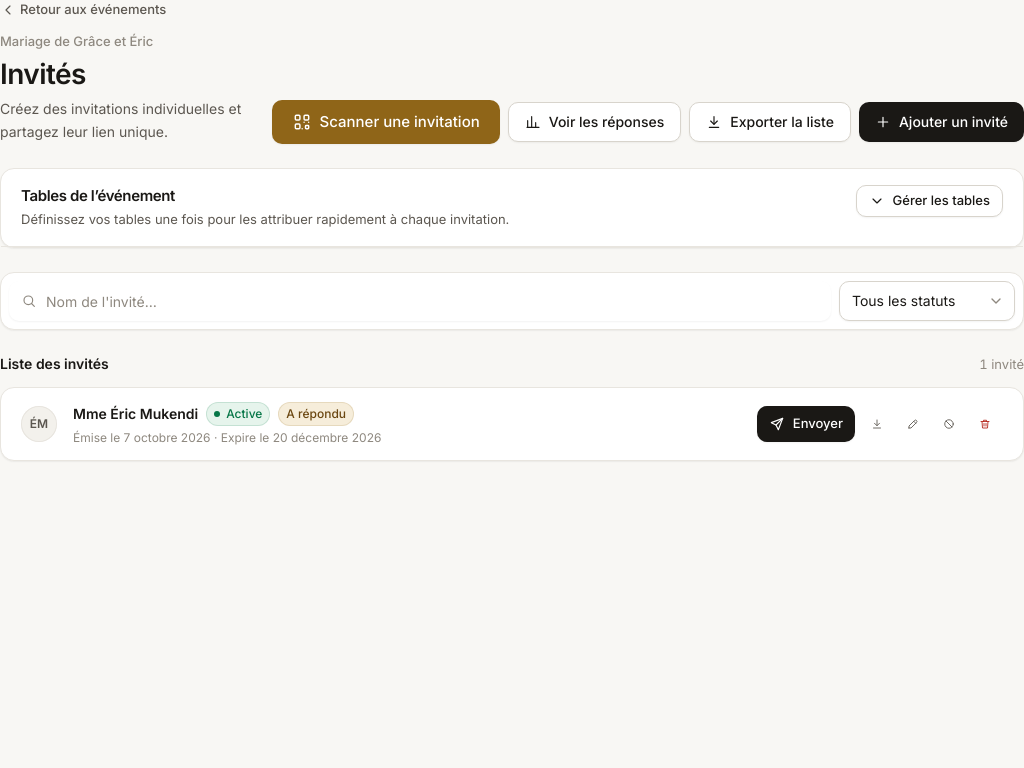
Test: GuestsPage › creates a single guest invitation
Click the button "Ajouter un invité" at (941, 122), box top-left (859, 102), bottom-right (1023, 142)
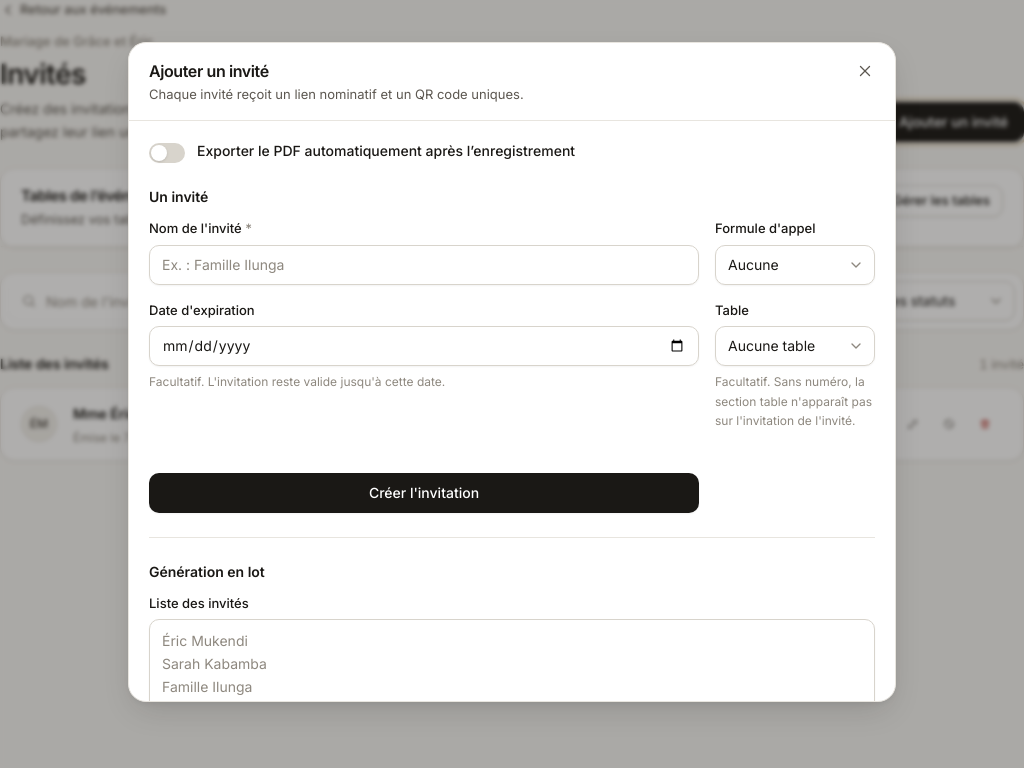
Now the button "Créer l'invitation" is shown, box top-left (149, 473), bottom-right (699, 513)
Type "Sarah Kabamba" into the field with id "guest-name" at (424, 265), box top-left (149, 245), bottom-right (699, 285)
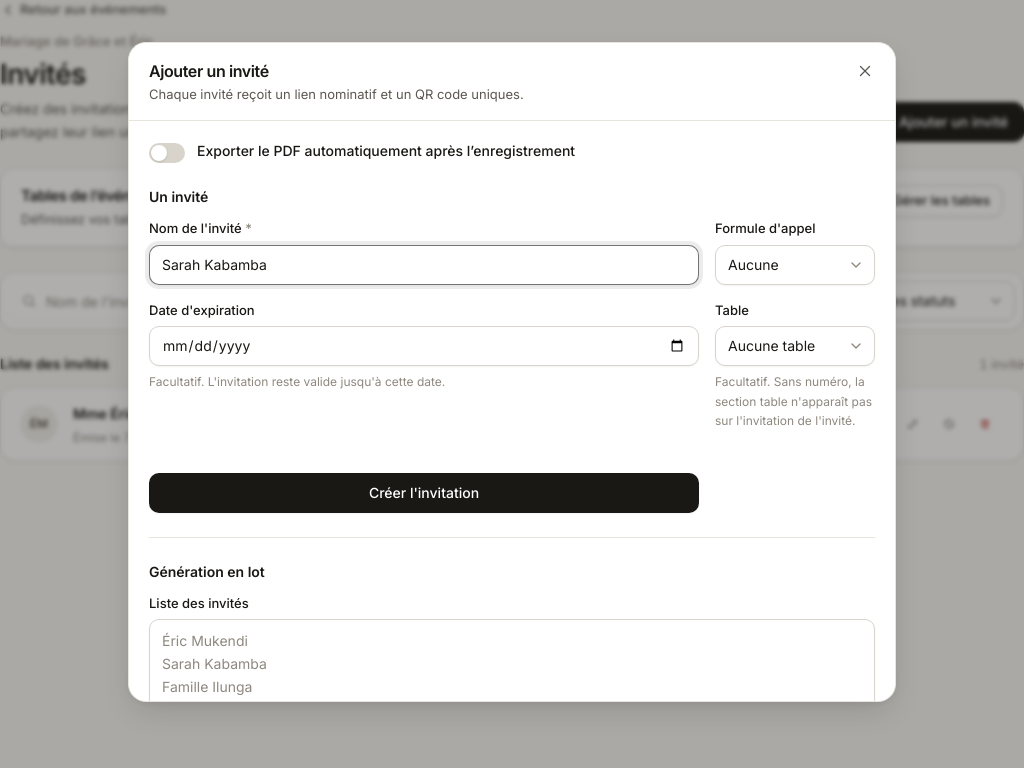
Select "Mme" in the dropdown with id "guest-civility" at (795, 265), box top-left (715, 245), bottom-right (875, 285)
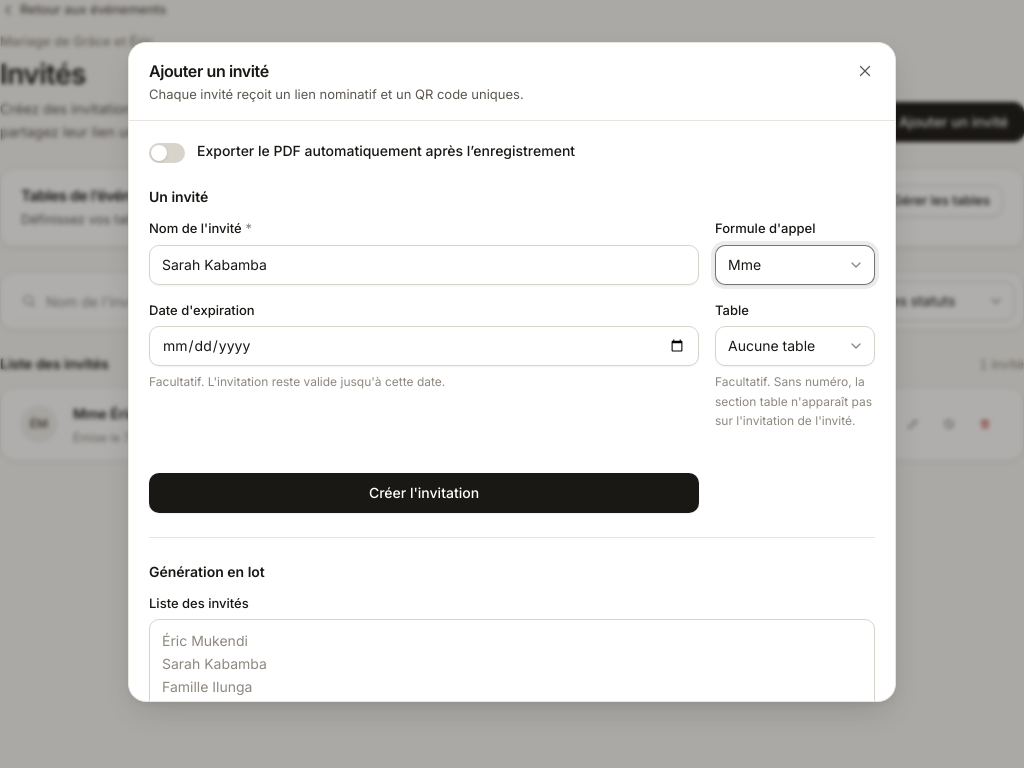
Click the button "Créer l'invitation" at (424, 493), box top-left (149, 473), bottom-right (699, 513)
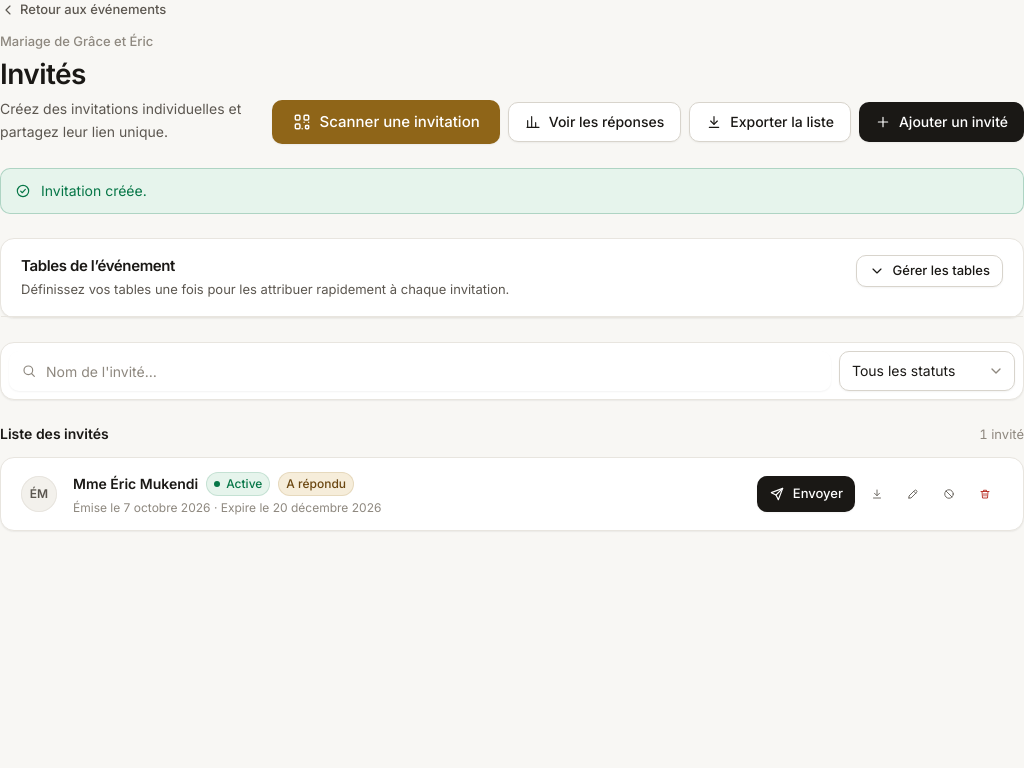
Now the text "Invitation créée." is shown, box top-left (41, 181), bottom-right (147, 201)
